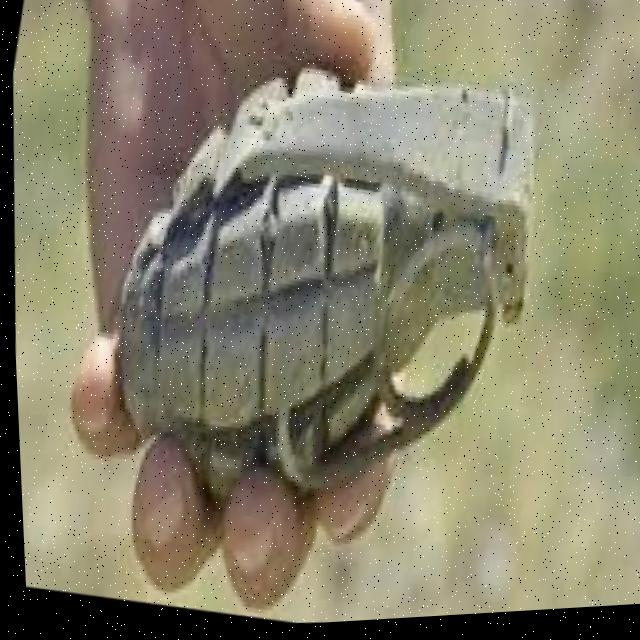grenade: (73, 12, 578, 555)
